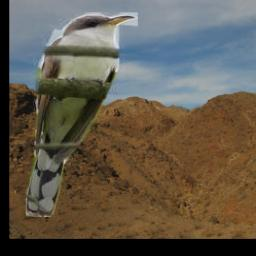Cuckoo: (25, 13, 137, 218)
